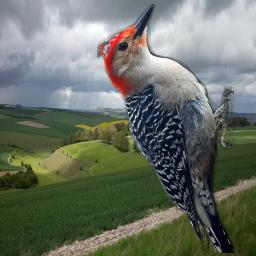Woodpecker: (97, 4, 234, 253)
